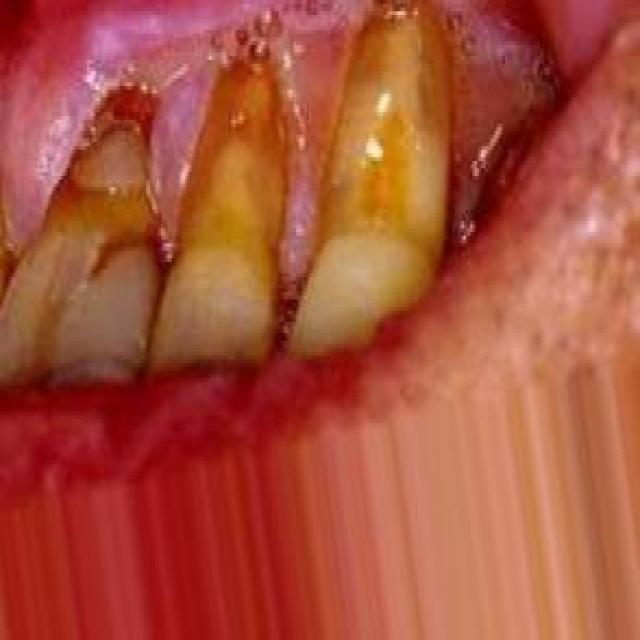caries: (30, 72, 164, 283)
